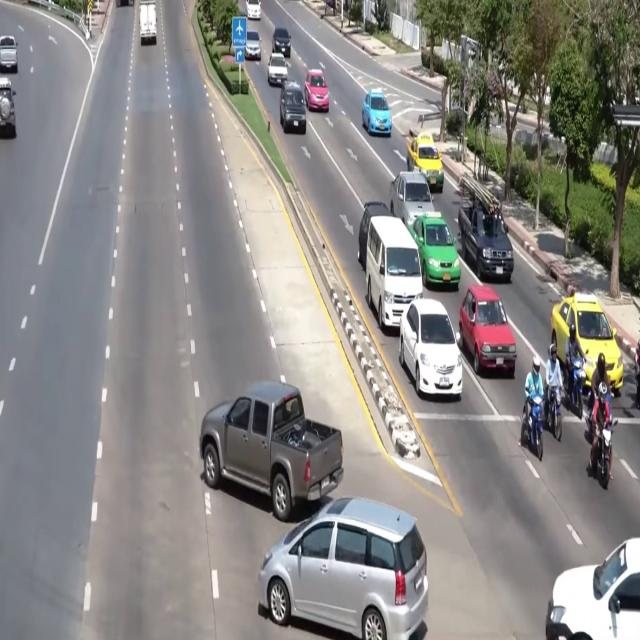car: (258, 497, 428, 639), (546, 538, 640, 640), (551, 293, 623, 393), (399, 299, 462, 398), (459, 286, 516, 377), (409, 212, 460, 289), (390, 172, 434, 228), (407, 129, 443, 192), (358, 201, 391, 268), (362, 88, 391, 136), (280, 81, 306, 134), (304, 69, 330, 112), (0, 78, 16, 137), (0, 35, 17, 73), (267, 53, 287, 85), (272, 27, 290, 57), (245, 31, 261, 60), (246, 0, 261, 20)
scooty: (591, 420, 617, 488), (521, 395, 543, 460), (566, 358, 586, 418), (547, 387, 562, 441), (586, 390, 594, 440), (635, 341, 639, 408)
truck: (200, 381, 343, 521), (458, 175, 513, 281), (139, 0, 157, 45)
